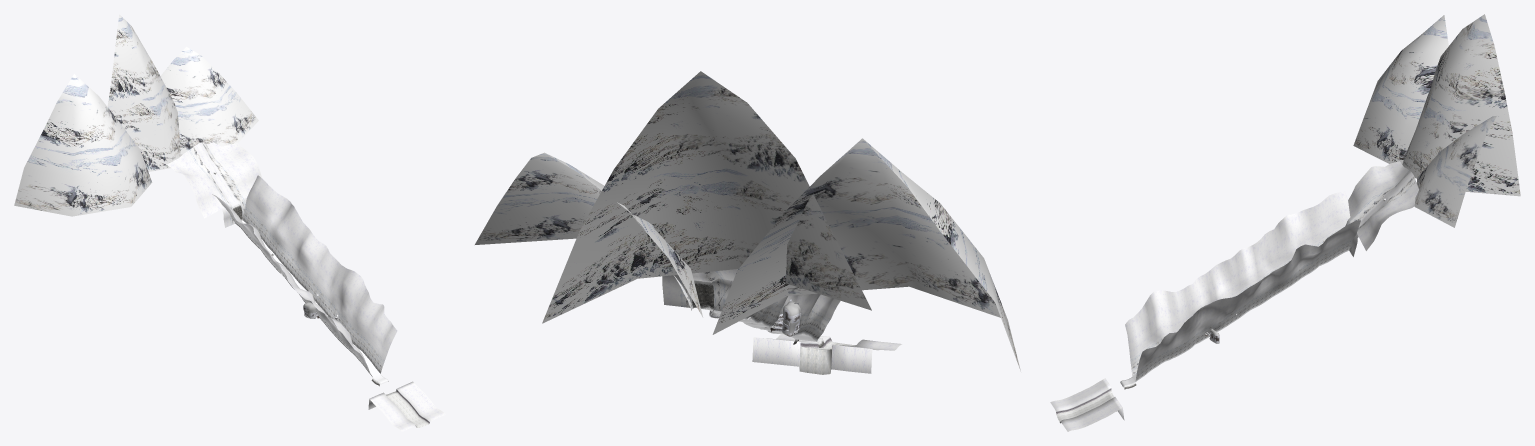
Rendered from Ice Cap 1.obj.
3 renders of one model, left to right at view 1: azimuth 30°, elevation 25°; view 2: azimuth 150°, elevation 25°; view 3: azimuth 270°, elevation 25°, orthographic. The views are drawn at different scales.
Visible parts, largest first — view 1: object_009FDC50, object_00A20F9C, object_009FE008, object_009FE3C0, object_00A0E224, object_00A064E4, object_00A180D0; view 2: object_009FE008, object_009FDC50, object_009FE3C0, object_00A064E4, object_00A180D0, object_00A0ED4C, object_00A09D34, object_00A28690; view 3: object_009FE008, object_00A180D0, object_009FDC50, object_00A20F9C, object_009FE3C0, object_00A0E224, object_00A064E4.
Part boxes in pixels (bbox=[...]): object_009FDC50: bbox=[14, 74, 152, 216]; object_00A20F9C: bbox=[243, 175, 397, 373]; object_009FE008: bbox=[107, 14, 182, 171]; object_009FE3C0: bbox=[160, 47, 258, 154]; object_00A0E224: bbox=[166, 142, 261, 218]; object_00A064E4: bbox=[368, 381, 445, 431]; object_00A180D0: bbox=[212, 194, 372, 376]; object_009FE008: bbox=[542, 71, 871, 323]; object_009FDC50: bbox=[712, 138, 1020, 371]; object_009FE3C0: bbox=[475, 152, 703, 317]; object_00A064E4: bbox=[752, 334, 901, 374]; object_00A180D0: bbox=[710, 281, 840, 341]; object_00A0ED4C: bbox=[662, 275, 692, 307]; object_00A09D34: bbox=[692, 280, 752, 320]; object_00A28690: bbox=[782, 301, 800, 335]; object_009FE008: bbox=[1402, 14, 1520, 196]; object_00A180D0: bbox=[1125, 191, 1350, 376]; object_009FDC50: bbox=[1353, 15, 1448, 164]; object_00A20F9C: bbox=[1135, 220, 1360, 381]; object_009FE3C0: bbox=[1414, 116, 1496, 227]; object_00A0E224: bbox=[1348, 161, 1418, 250]; object_00A064E4: bbox=[1050, 378, 1124, 431].
Size of the model in its own units: 7788 by 8195 by 10212.
